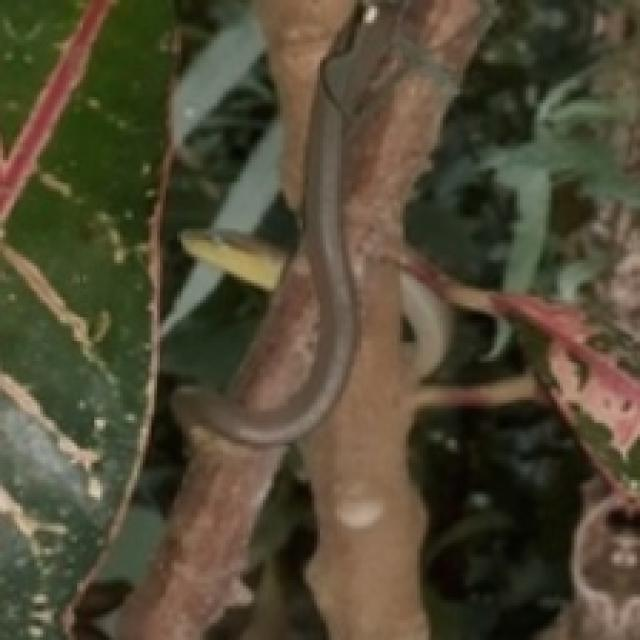red-tailed green ratsnake: (172, 54, 356, 446), (179, 229, 288, 291), (400, 271, 454, 379)
